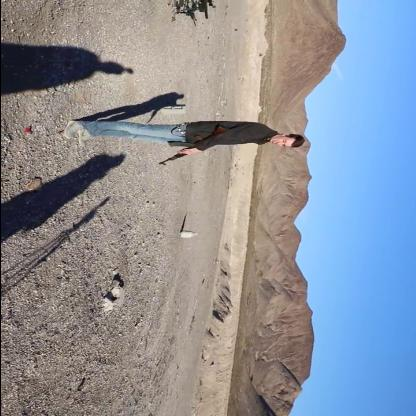long weapon: (154, 124, 228, 170)
